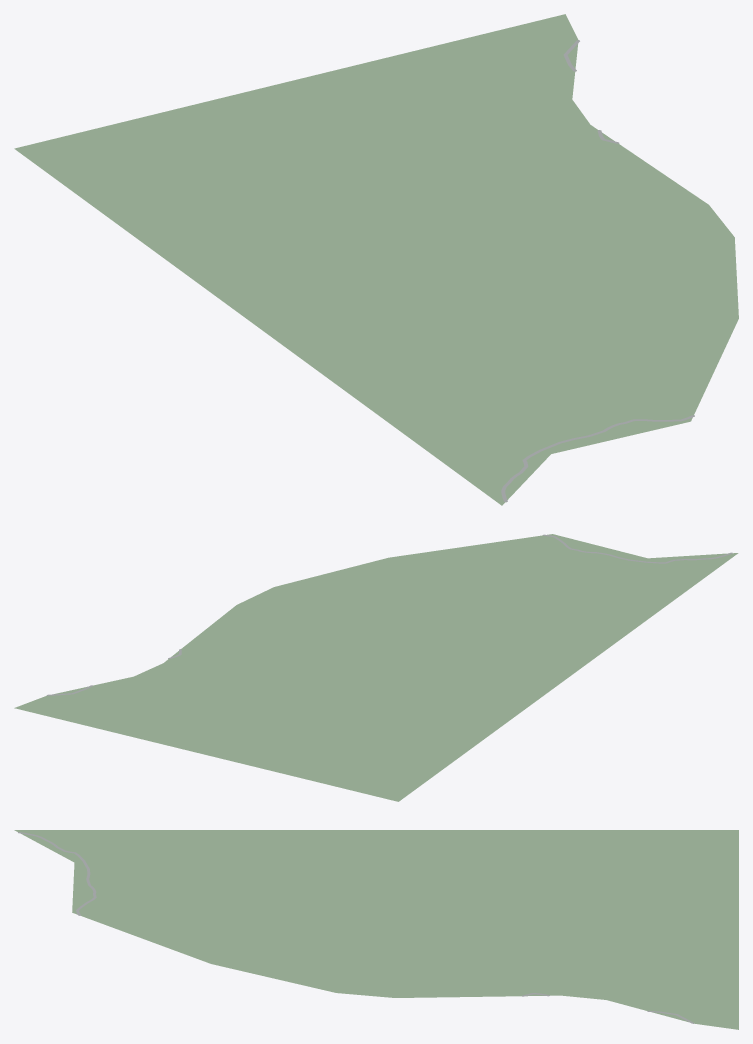
File: -1_5-known-coarse.glb
3 renders of one model, top to bottom at view 1: azimuth 30°, elevation 25°; view 2: azimuth 150°, elevation 25°; view 3: azimuth 270°, elevation 25°, orthographic. The views are drawn at different scales.
Bounding box in the file's own units: 482 × 0.1 × 738.
